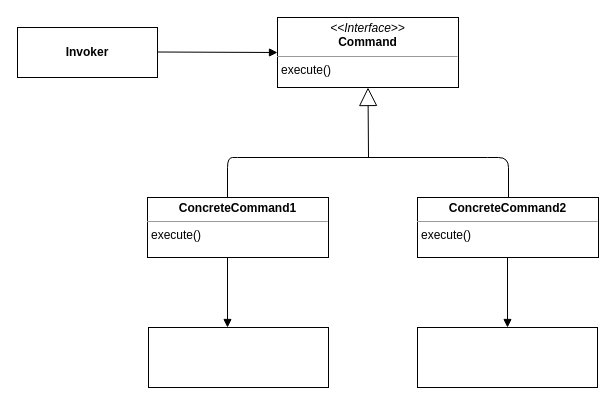
Some shapes in this 616 by 405 pixel diagram are drawn without their labels. Each missing label, with the centre of its shape:
"Receiver1 someMethod1()" belongs at pixel 238 357.
"Receiver2 someMethod2()" belongs at pixel 507 357.
